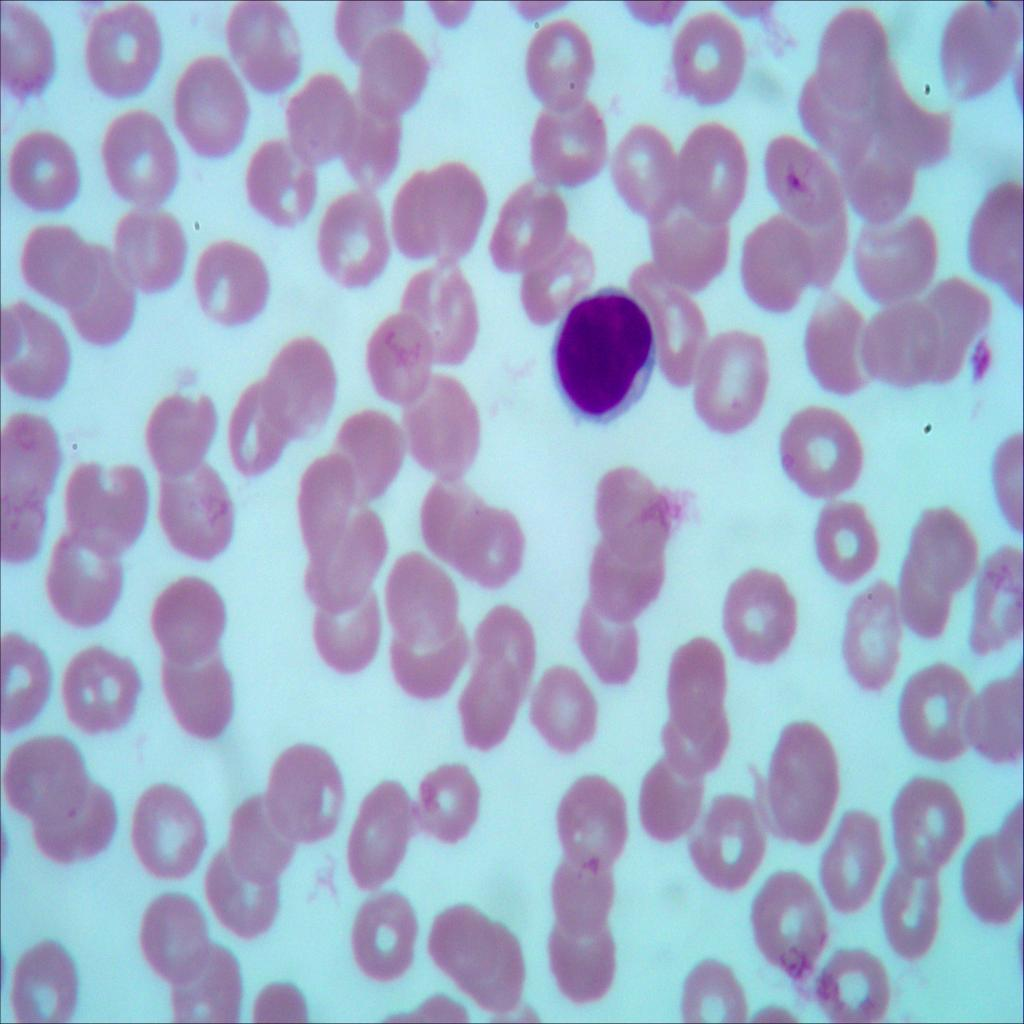Limfoblast: (556, 278, 664, 436)
Platelet: (954, 324, 1006, 393)
